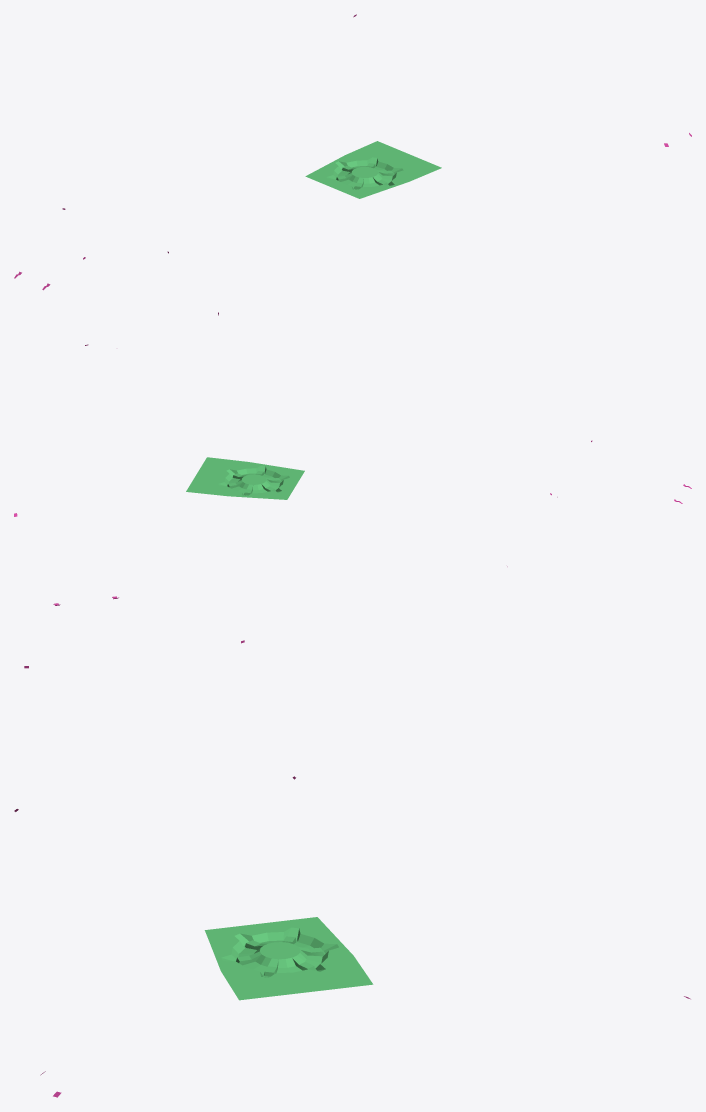
Rendered from ship2.fbx.
3 views of the same model, one above another, from view 1: azimuth 30°, elevation 25°; view 2: azimuth 150°, elevation 25°; view 3: azimuth 270°, elevation 25° (orthographic). The views are drawn at different scales.
Parts seen in each view (by area): view 1: ship2; view 2: ship2; view 3: ship2.
Part boxes in pixels (<box>): ship2: <box>14,14,691,315</box>; ship2: <box>14,344,691,566</box>; ship2: <box>14,596,690,1097</box>.
Bounding box in the file's own units: 1414729 × 149202 × 822318.
